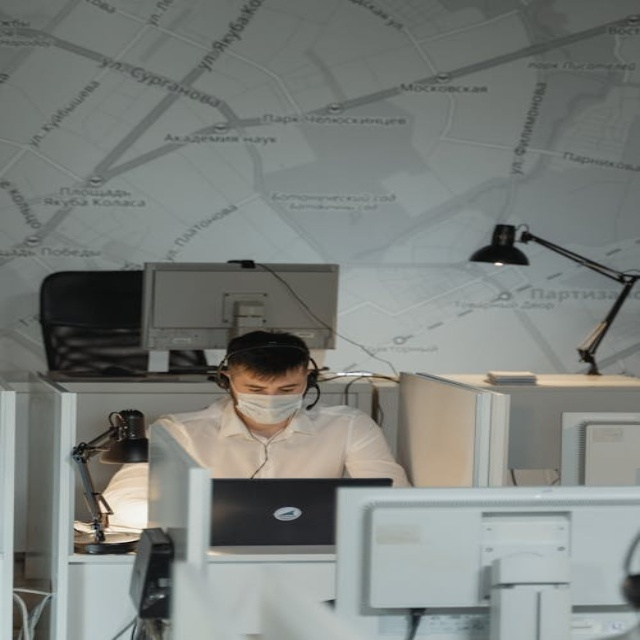Mascara: (230, 385, 308, 425)
Sin_gafas: (247, 386, 267, 393), (279, 385, 298, 392)
